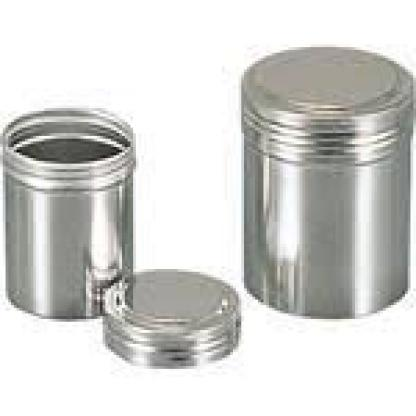METAL: (236, 44, 413, 316), (0, 106, 133, 314), (97, 269, 236, 369)
